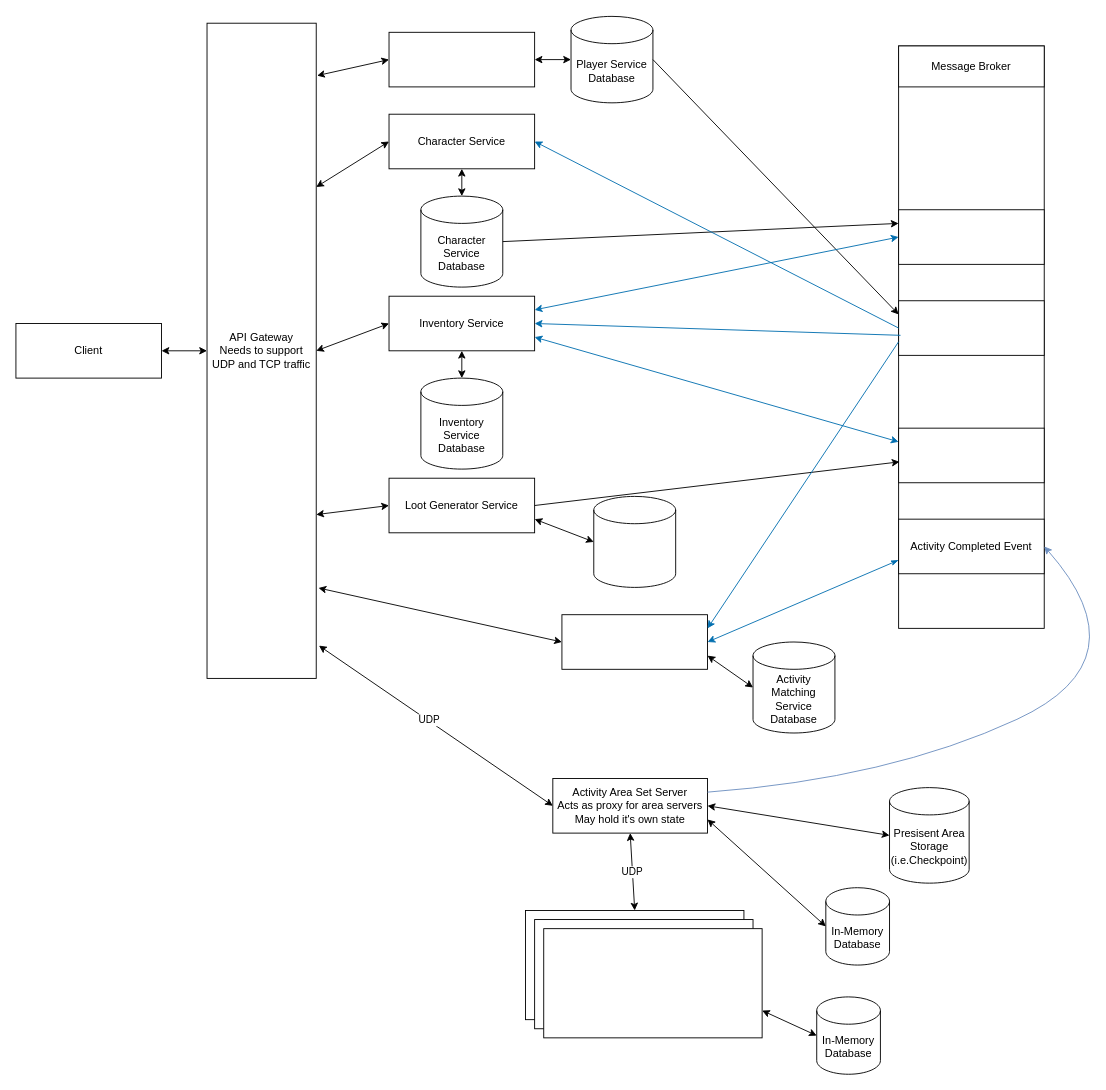
This 1106x1090 diagram has some shape labels left out. Each missing label, with the centre of its shape:
Activity Matching Service: [634,641]
Area Servers: [652,983]
Character CRUD Event: [971,236]
Loot Generated Event: [971,455]
Loot Generator Service Database: [634,541]
Player CRUD Event: [971,327]
Player Service: [461,59]
